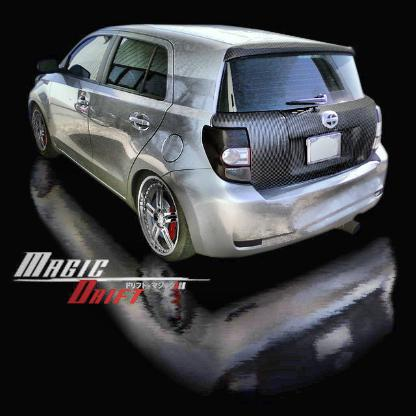Scion xD Hatchback 2012: (27, 25, 390, 273)
